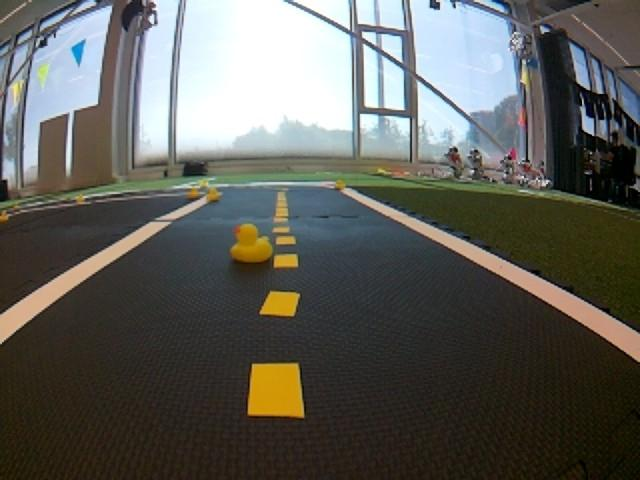Duckies: (232, 223, 272, 262), (205, 188, 221, 201), (187, 187, 201, 199), (0, 209, 9, 222), (335, 180, 345, 188), (76, 194, 86, 202), (199, 181, 208, 188), (12, 202, 20, 208)
